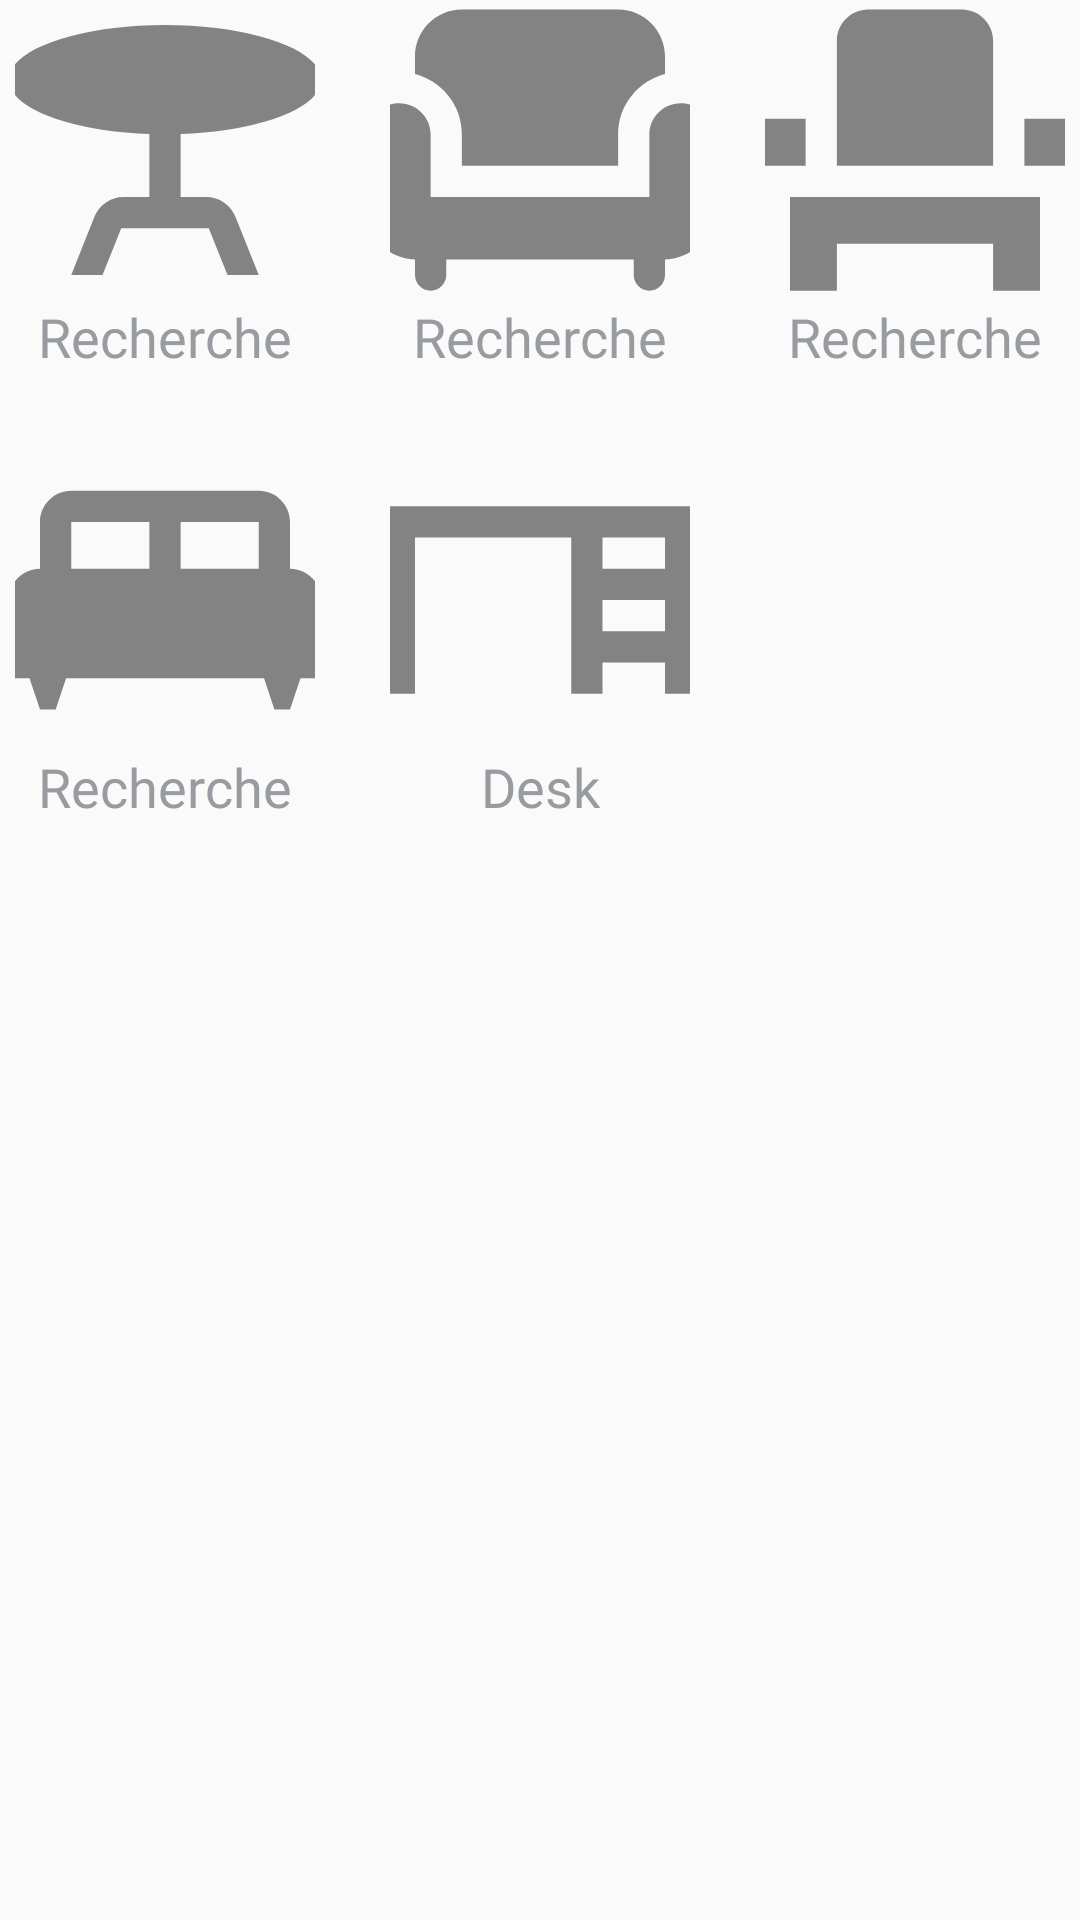

Named icons in this screenshot (1080w x 1920h) and their centers, (x=x, y=y):
bed: (x=165, y=600)
table: (x=165, y=150)
